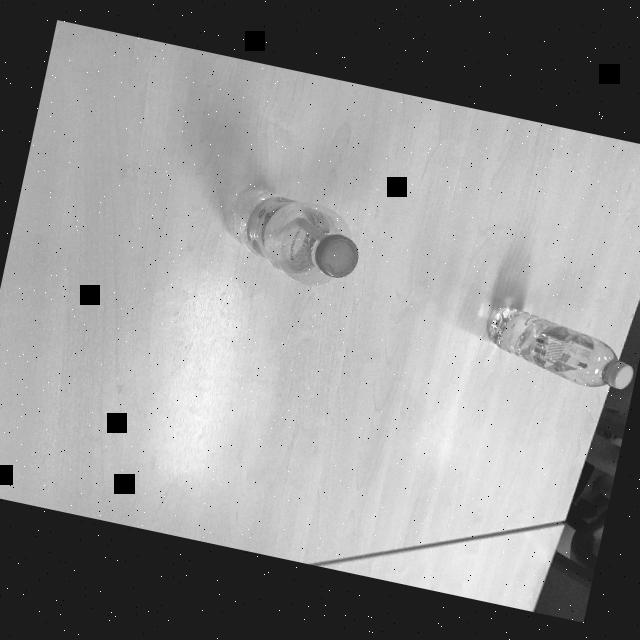plastic_bottle: (216, 180, 370, 292), (476, 301, 640, 395)
plastic_bottle_cap: (311, 229, 363, 281), (602, 354, 636, 392)
